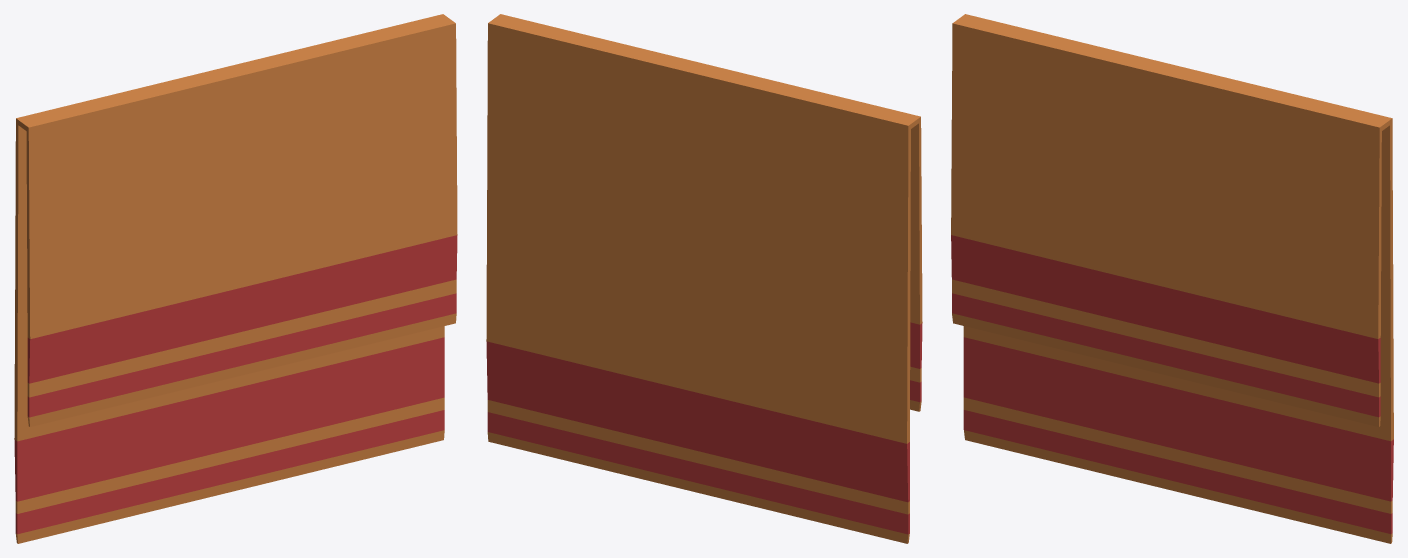
File: Towel_1.fbx
3 renders of one model, left to right at view 1: azimuth 30°, elevation 25°; view 2: azimuth 150°, elevation 25°; view 3: azimuth 330°, elevation 25°, orthographic.
Visible parts, largest first — view 1: polySurface679; view 2: polySurface679; view 3: polySurface679.
Boxes of the visible parts, <box> form: polySurface679: <box>14,14,457,543</box>; polySurface679: <box>486,14,922,543</box>; polySurface679: <box>951,14,1393,543</box>.
Bounding box in the file's own units: 1.07 × 1.01 × 0.0679.
1 material, 1 textured.
